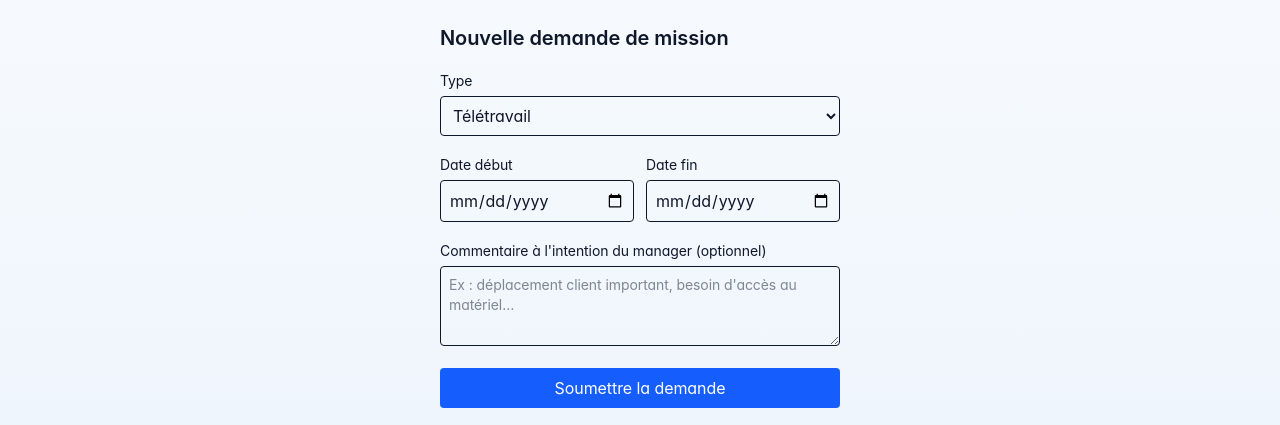
Scenario: MissionFormPage › submits a REMOTE mission and shows the PENDING confirmation
Type "2026-04-22" into the date field labelled "Date début".
click(537, 201); type("2026-04-22")  # box [440,180,634,222]
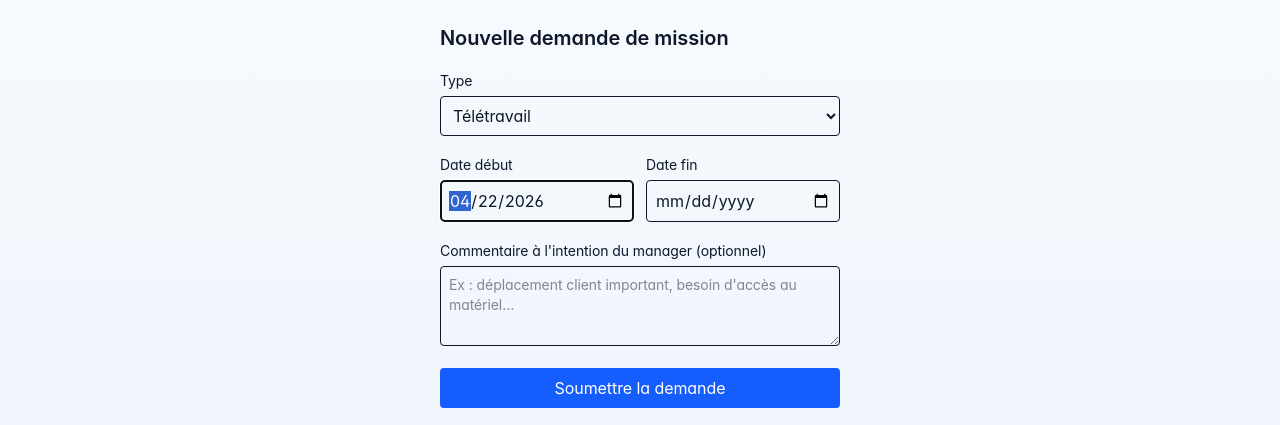
Type "2026-04-22" into the date field labelled "Date fin".
click(743, 201); type("2026-04-22")  # box [646,180,840,222]
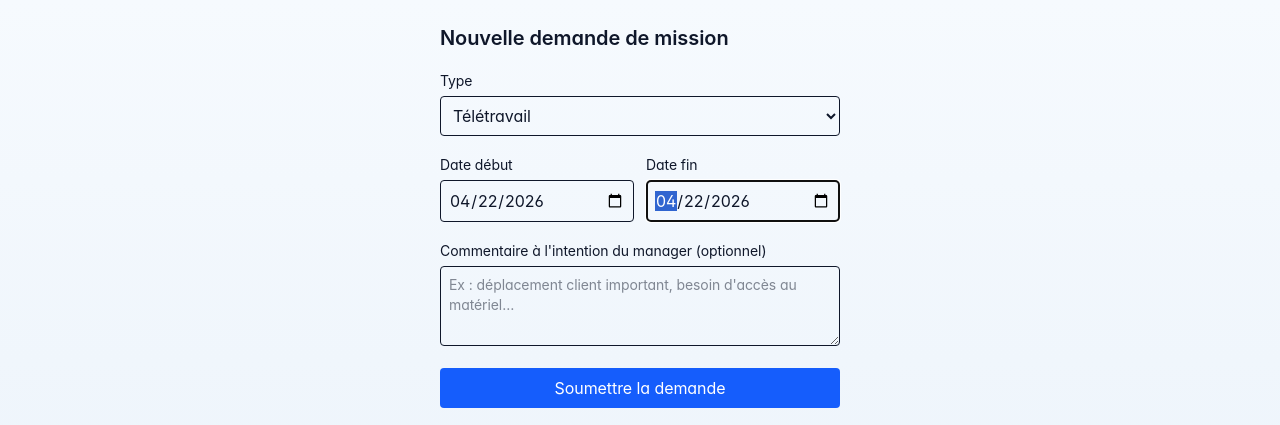
Click the button "Soumettre la demande".
click(640, 388)  # box [440,368,840,408]
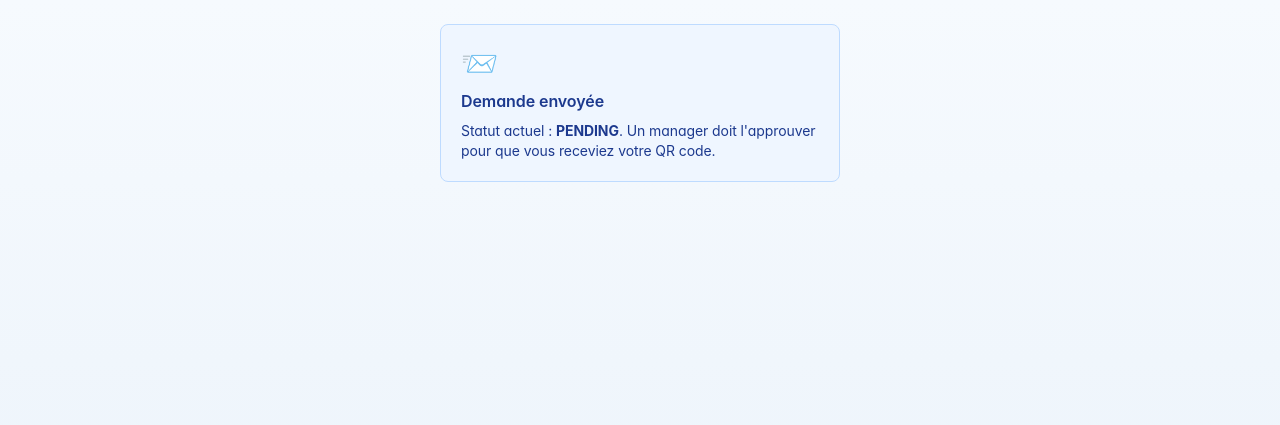
Now the text "Demande envoyée" is shown, box [461,91,604,111]
Now the text "PENDING" is shown, box [556,122,619,139]
